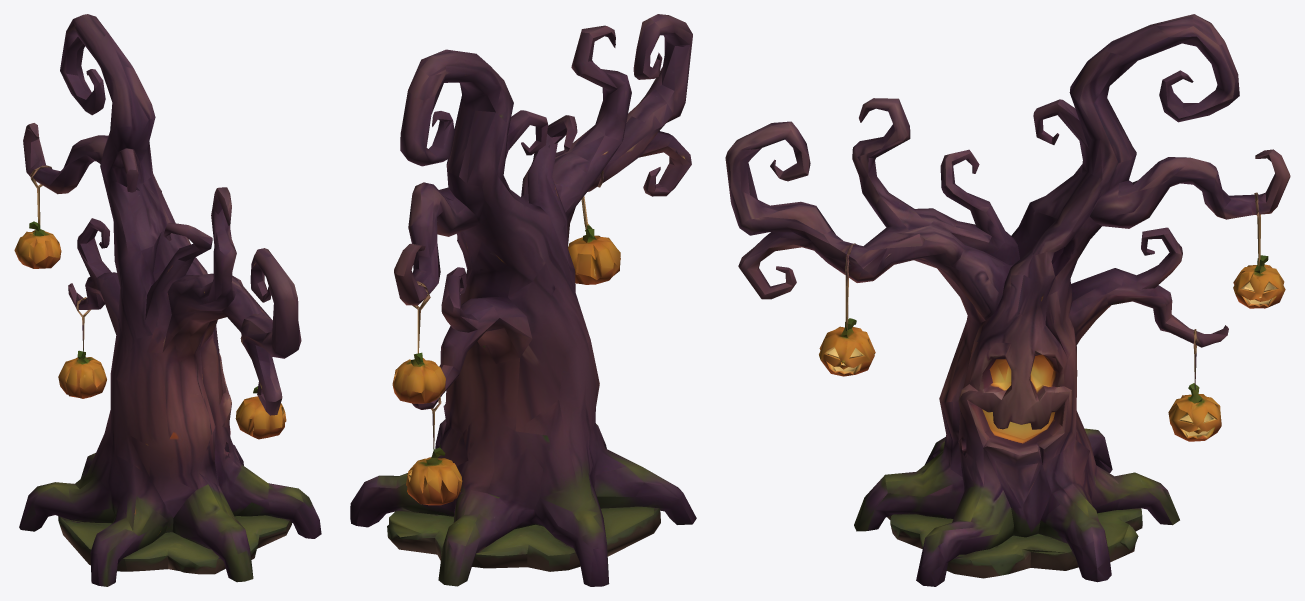
The model's file is H2_SpookyTree_LOD2.fbx.
3 views of the same model, side by side, from view 1: azimuth 30°, elevation 25°; view 2: azimuth 150°, elevation 25°; view 3: azimuth 270°, elevation 25° (orthographic). The views are drawn at different scales.
Visible parts, largest first — view 1: H2_SpookyTree_LOD2; view 2: H2_SpookyTree_LOD2; view 3: H2_SpookyTree_LOD2.
Boxes of the visible parts, bbox=[...] form: H2_SpookyTree_LOD2: bbox=[14, 14, 321, 586]; H2_SpookyTree_LOD2: bbox=[350, 14, 696, 586]; H2_SpookyTree_LOD2: bbox=[725, 14, 1290, 586].
Bounding box in the file's own units: 1.84 × 3.59 × 3.61.
1 material, 1 textured.
